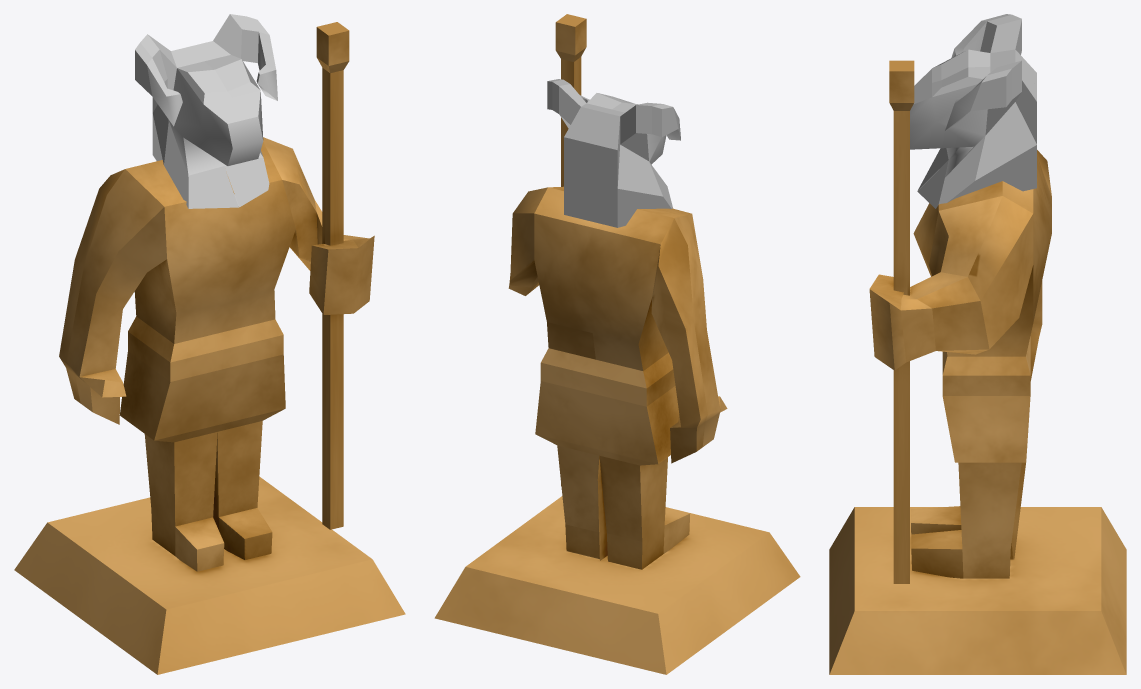
File: Khnum.fbx
3 views of the same model, side by side, from view 1: azimuth 30°, elevation 25°; view 2: azimuth 150°, elevation 25°; view 3: azimuth 270°, elevation 25° (orthographic). The views are drawn at different scales.
Visible parts, largest first — view 1: polySurface1, polySurface3, polySurface2, polySurface4; view 2: polySurface1, polySurface3, polySurface2, polySurface4; view 3: polySurface1, polySurface3, polySurface2, polySurface4.
Boxes of the visible parts, box(x1,y1,x2,y2) form: polySurface1: box(59, 137, 374, 571); polySurface3: box(14, 476, 405, 674); polySurface2: box(135, 14, 277, 208); polySurface4: box(316, 22, 349, 529); polySurface1: box(508, 186, 727, 569); polySurface3: box(434, 496, 800, 674); polySurface2: box(547, 79, 680, 227); polySurface4: box(555, 14, 586, 485); polySurface1: box(869, 150, 1051, 578); polySurface3: box(829, 507, 1126, 674); polySurface2: box(910, 14, 1036, 208); polySurface4: box(889, 60, 914, 583).
Size of the model in its own units: 10.08 by 22.07 by 10.08.
